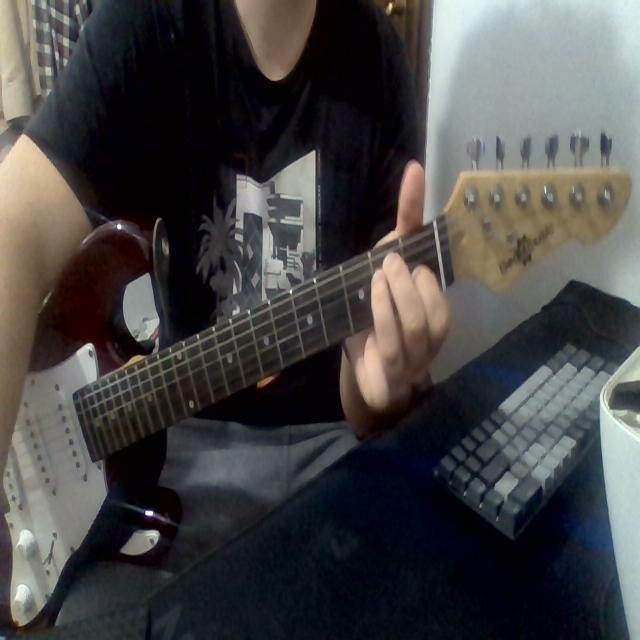E: (358, 240, 453, 369)
